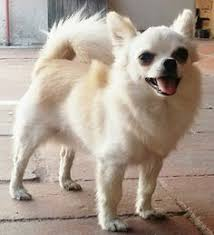chihuahua: (4, 9, 211, 229)
